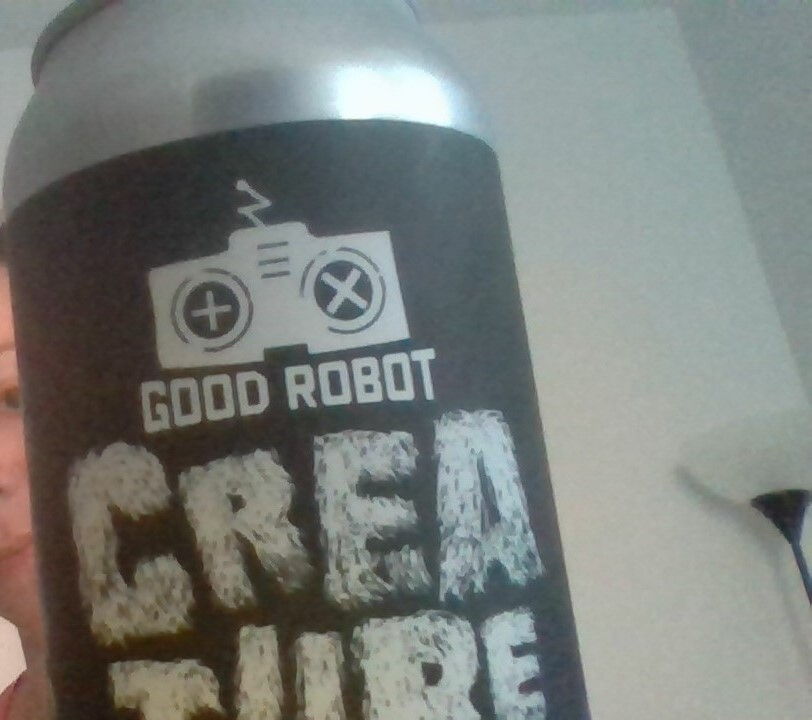Good Robot: (123, 179, 440, 368)
